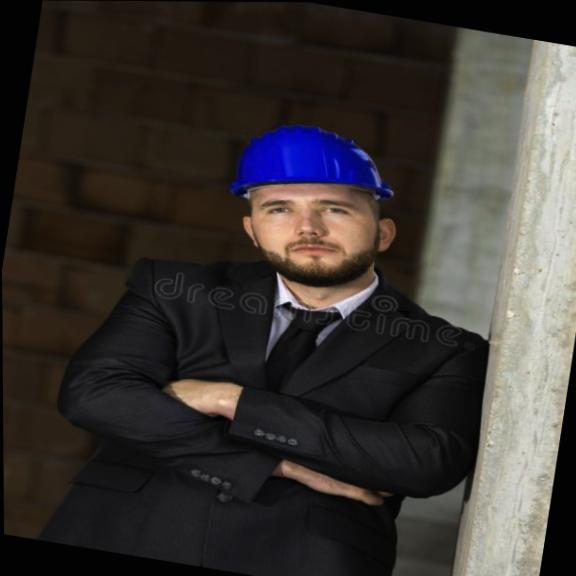no_safety_vest: (65, 245, 455, 576)
